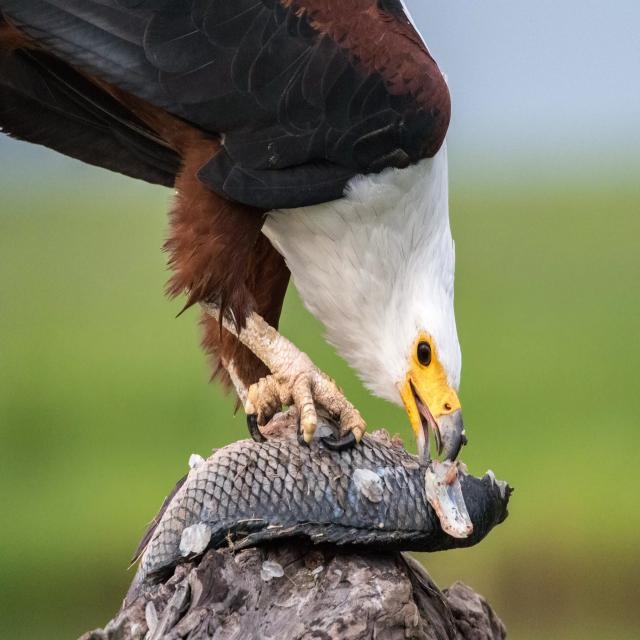Eagle: (0, 0, 471, 463)
